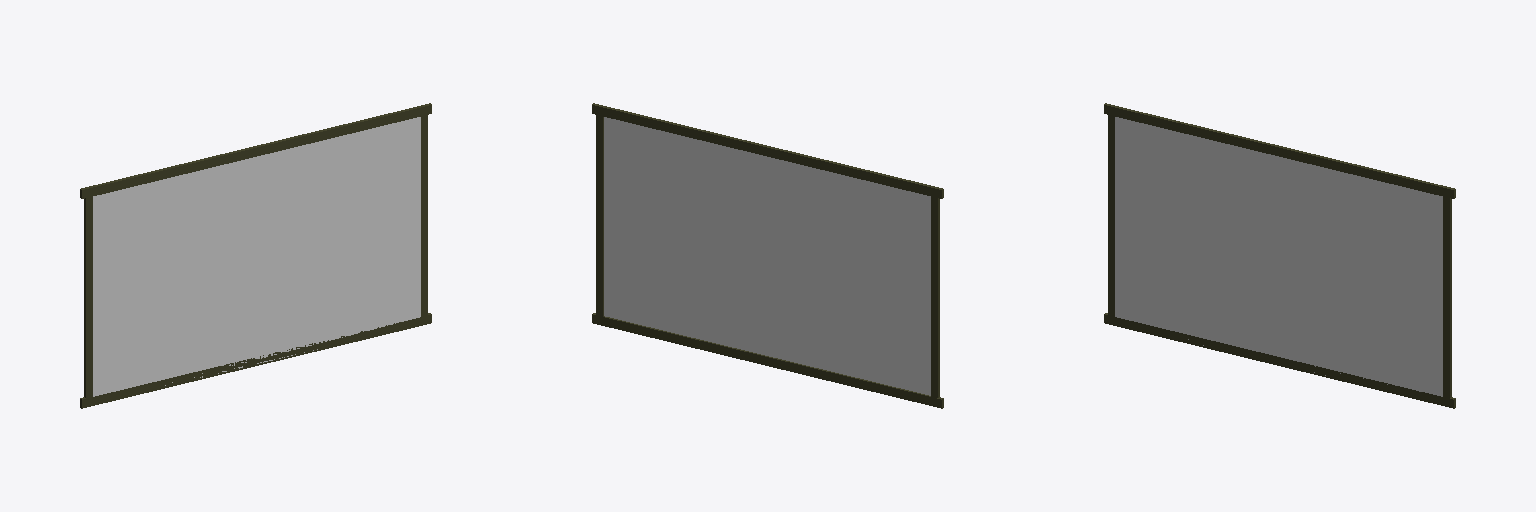
Rendered from Win.obj.
3 renders of one model, left to right at view 1: azimuth 30°, elevation 25°; view 2: azimuth 150°, elevation 25°; view 3: azimuth 330°, elevation 25°, orthographic.
Visible parts, largest first — view 1: Window, Top, Top.001, Left_Side, Right_Side; view 2: Window, Top, Top.001, Left_Side, Right_Side; view 3: Window, Top, Top.001, Right_Side, Left_Side.
Boxes of the visible parts, x1,y1,x2,y2 form: Window: [93, 117, 420, 396]; Top: [80, 103, 431, 198]; Top.001: [80, 313, 431, 408]; Left_Side: [84, 197, 92, 398]; Right_Side: [421, 115, 427, 316]; Window: [604, 117, 930, 395]; Top: [592, 103, 943, 198]; Top.001: [592, 313, 943, 408]; Left_Side: [931, 197, 939, 397]; Right_Side: [596, 115, 603, 316]; Window: [1115, 117, 1442, 396]; Top: [1104, 103, 1455, 198]; Top.001: [1104, 313, 1455, 408]; Right_Side: [1443, 197, 1451, 398]; Left_Side: [1108, 115, 1114, 316].
Size of the model in its own units: 102 by 60.47 by 1.05.